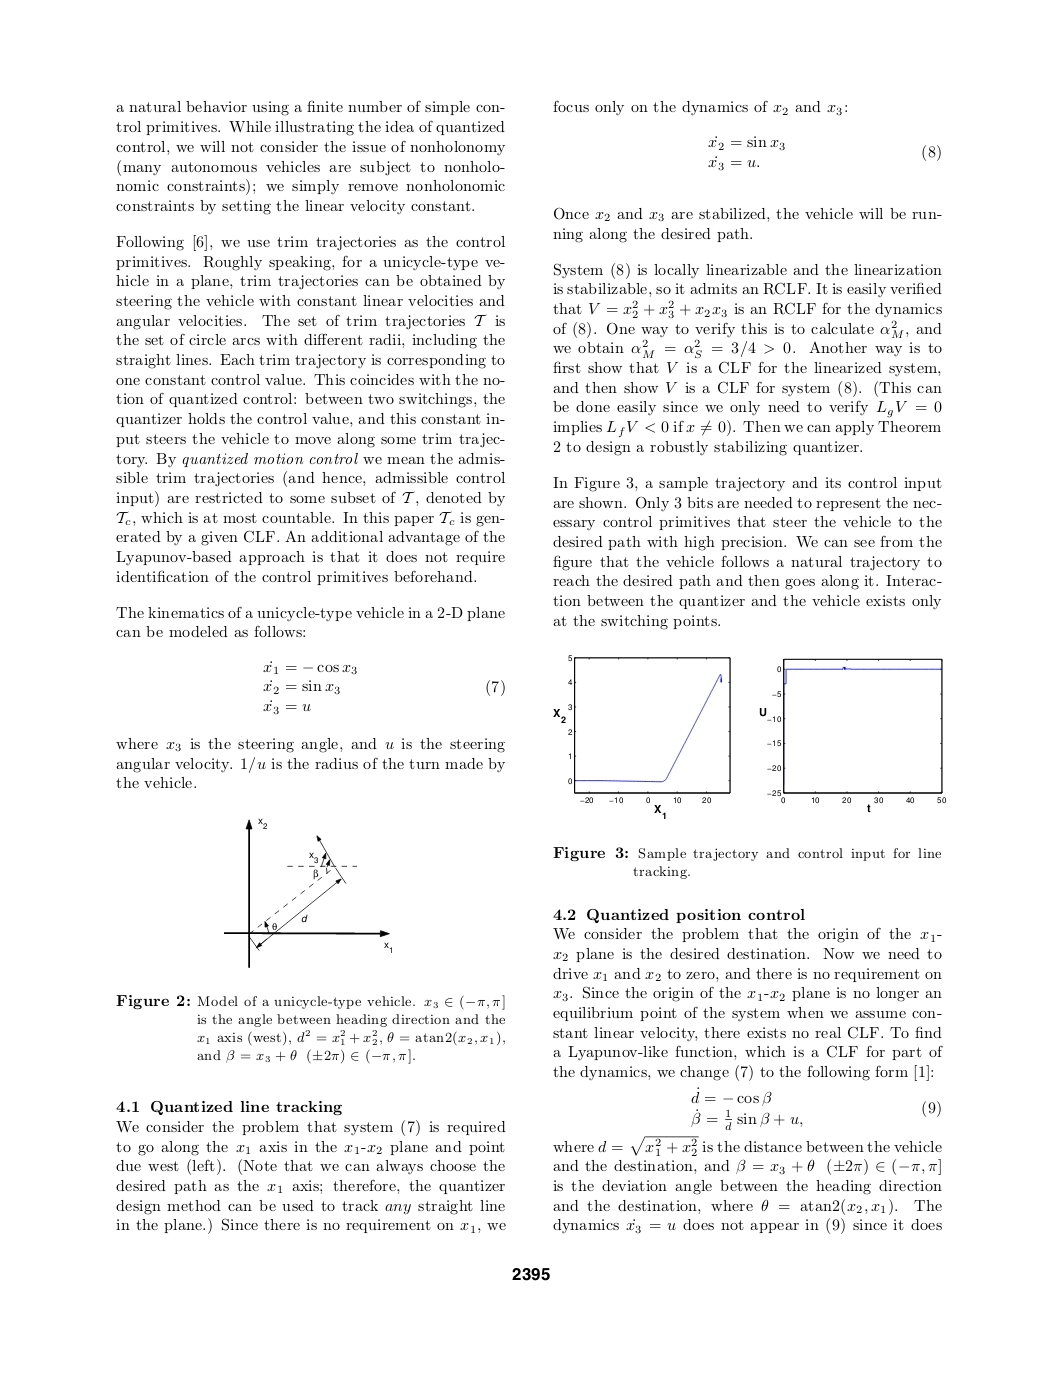figure: (553, 655, 730, 818), (759, 658, 945, 812), (224, 817, 391, 968)
formula: (691, 1090, 940, 1130), (708, 135, 940, 171), (263, 679, 504, 697), (263, 663, 356, 675), (263, 699, 310, 715)
